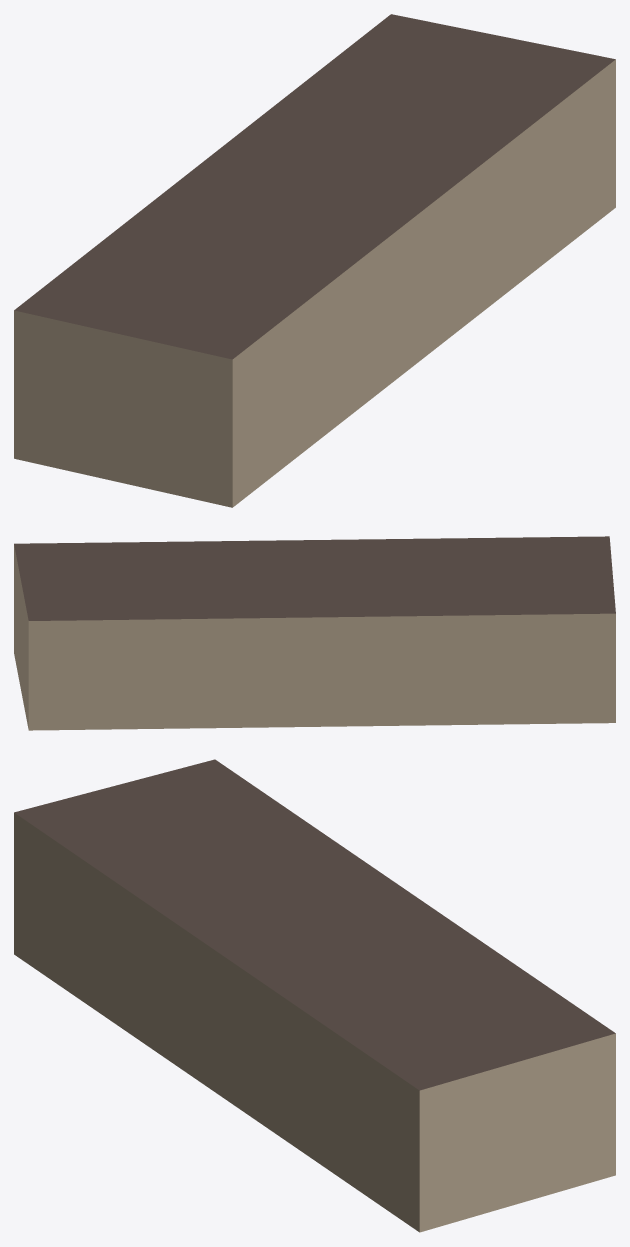
3 renders of one model, top to bottom at view 1: azimuth 30°, elevation 25°; view 2: azimuth 150°, elevation 25°; view 3: azimuth 270°, elevation 25°, orthographic. The views are drawn at different scales.
Parts seen in each view (by area): view 1: HP-w1197065283; view 2: HP-w1197065283; view 3: HP-w1197065283.
Boxes of the visible parts, x1,y1,x2,y2 form: HP-w1197065283: (14, 14, 615, 507); HP-w1197065283: (14, 536, 615, 730); HP-w1197065283: (14, 759, 615, 1232).
Bounding box in the file's own units: 45.02 × 9 × 34.58.
